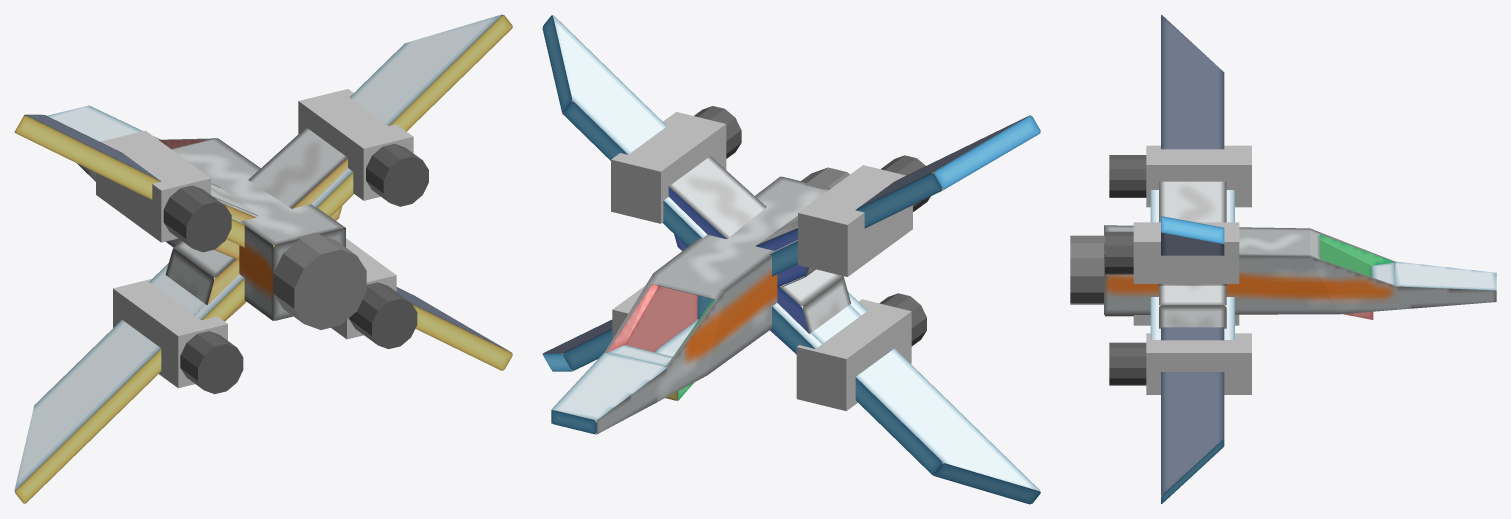
Rendered from Ship.obj.
The picture shows the model from 3 angles, left to right: view 1: azimuth 30°, elevation 25°; view 2: azimuth 150°, elevation 25°; view 3: azimuth 270°, elevation 25°; orthographic projection. The views are drawn at different scales.
Parts seen in each view (by area): view 1: mesh, cylinder; view 2: mesh, cylinder; view 3: mesh, cylinder.
Part boxes in pixels (x1,y1,x2,y2): mesh: [14, 14, 512, 503]; cylinder: [163, 143, 428, 394]; mesh: [542, 15, 1040, 504]; cylinder: [694, 106, 930, 346]; mesh: [1104, 15, 1496, 503]; cylinder: [1070, 155, 1146, 385].
Bounding box in the file's own units: 6.9 × 5.15 × 6.31.
Materials: 9 (8 with a texture image).
